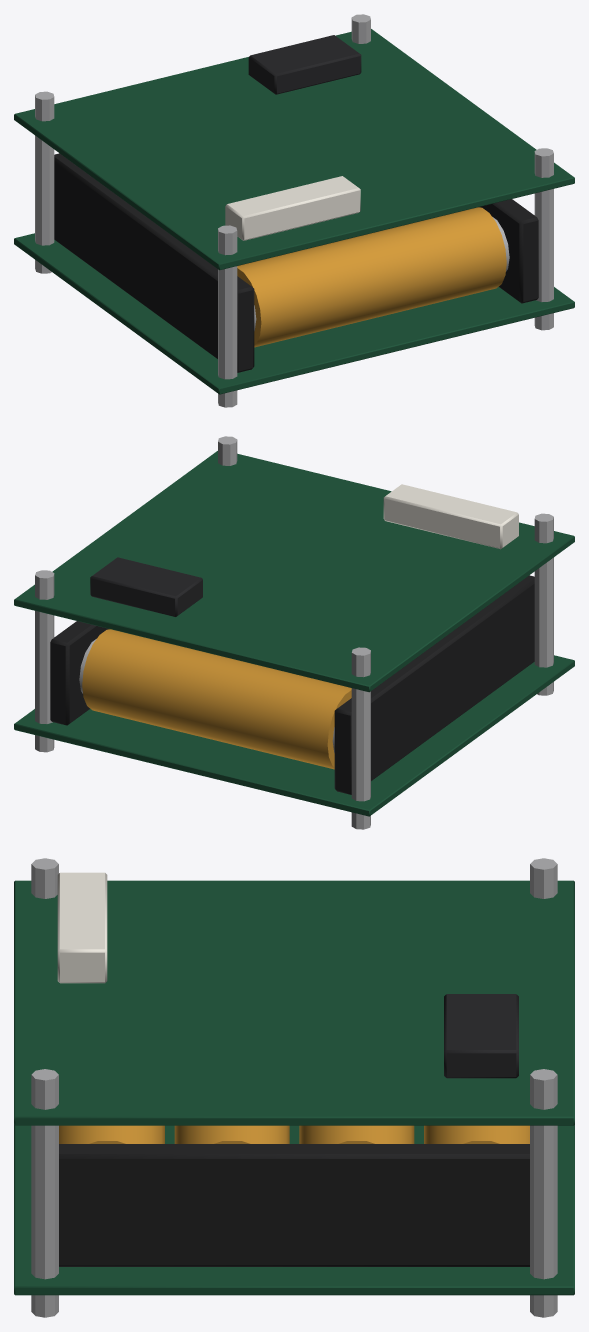
The model's file is mod_int_battery.glb.
3 renders of one model, top to bottom at view 1: azimuth 30°, elevation 25°; view 2: azimuth 150°, elevation 25°; view 3: azimuth 270°, elevation 25°, orthographic. The views are drawn at different scales.
Visible parts, largest first — view 1: mod_int_battery; view 2: mod_int_battery; view 3: mod_int_battery.
Part boxes in pixels (x1,y1,x2,y2): mod_int_battery: (14, 14, 574, 407); mod_int_battery: (14, 436, 574, 829); mod_int_battery: (14, 858, 574, 1317).
Bounding box in the file's own units: 0.9 × 0.43 × 0.9.
